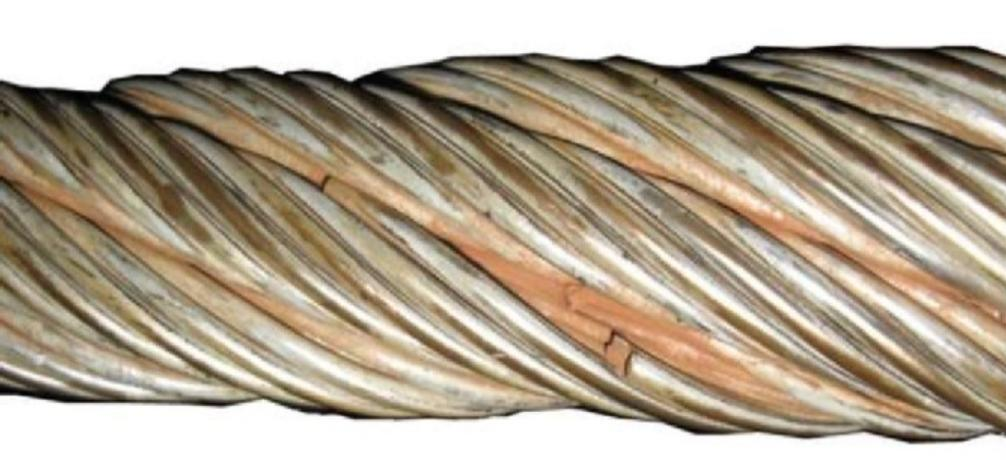break: (569, 313, 654, 381), (301, 158, 351, 203)
